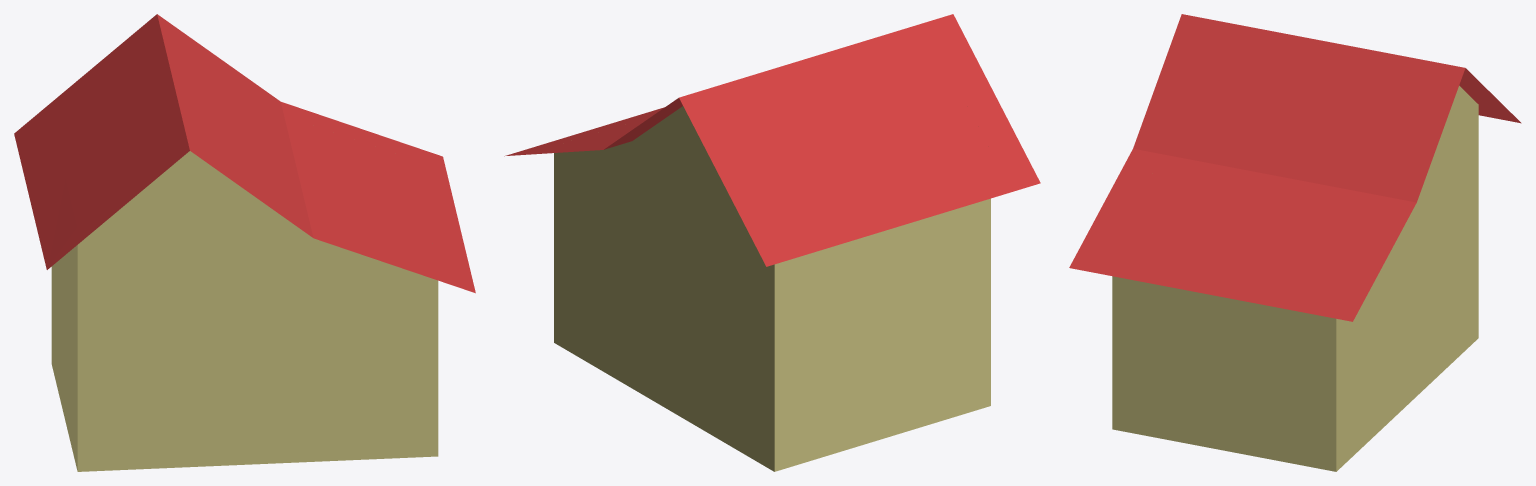
3 views of the same model, side by side, from view 1: azimuth 30°, elevation 25°; view 2: azimuth 150°, elevation 25°; view 3: azimuth 270°, elevation 25° (orthographic). The views are drawn at different scales.
Bounding box in the file's own units: 15.35 × 13.8 × 10.64.
